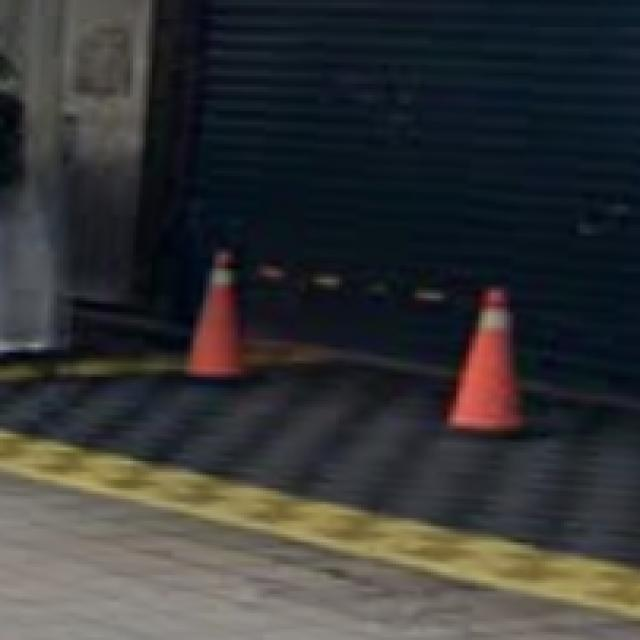cone: (441, 275, 529, 433), (178, 247, 252, 381)
